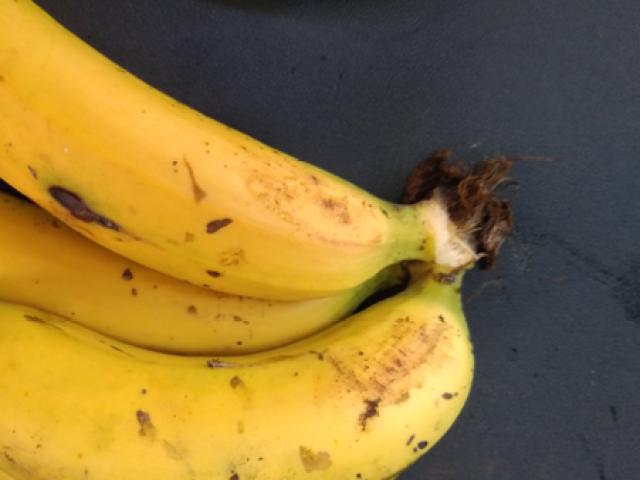ripe: (0, 0, 382, 293), (0, 291, 472, 479)
